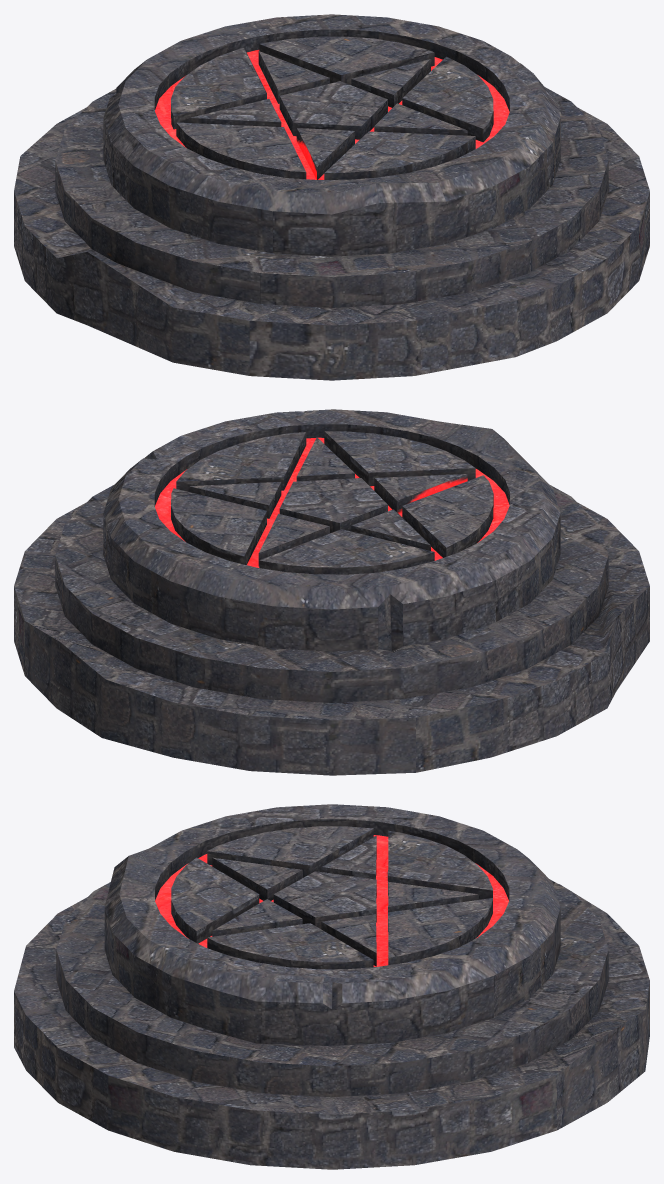
The model's file is penat.fbx.
3 views of the same model, one above another, from view 1: azimuth 30°, elevation 25°; view 2: azimuth 150°, elevation 25°; view 3: azimuth 270°, elevation 25° (orthographic).
Visible parts, largest first — view 1: Cylinder; view 2: Cylinder; view 3: Cylinder.
Part boxes in pixels (left/top/right/bottom): Cylinder: left=14, top=14, right=649, bottom=380; Cylinder: left=14, top=409, right=649, bottom=775; Cylinder: left=14, top=804, right=649, bottom=1169.
Bounding box in the file's own units: 278 × 73.27 × 279.
Materials: 1 (1 with a texture image).
